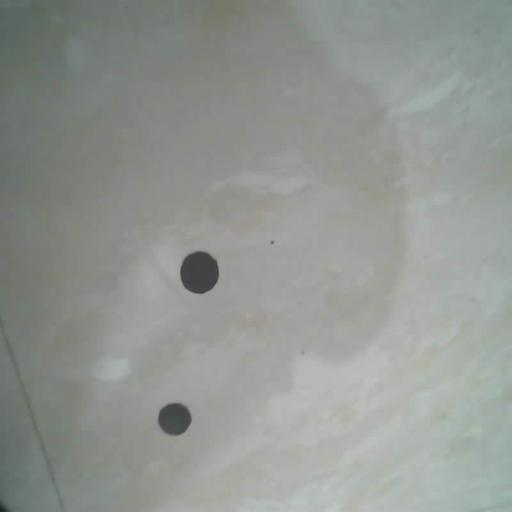pothole: (180, 251, 220, 294), (158, 403, 191, 436)
